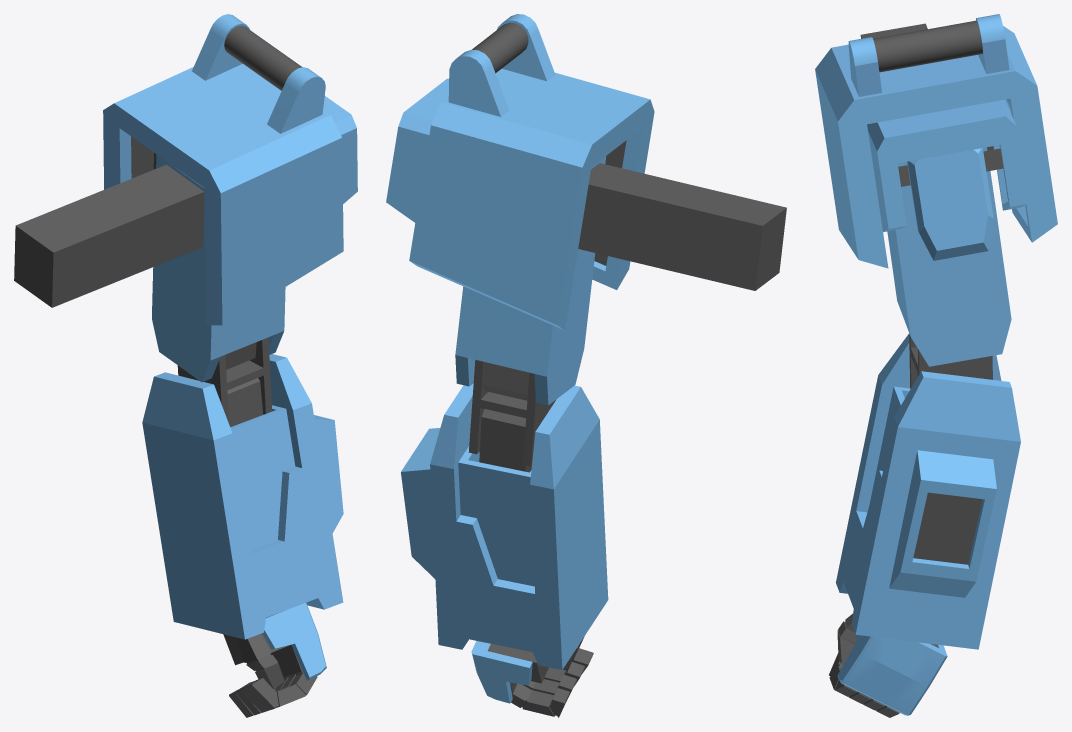
File: LeftArm.fbx
3 renders of one model, left to right at view 1: azimuth 30°, elevation 25°; view 2: azimuth 150°, elevation 25°; view 3: azimuth 270°, elevation 25°, orthographic. The views are drawn at different scales.
Parts seen in each view (by area): view 1: LeftArm2; view 2: LeftArm2; view 3: LeftArm2.
Part boxes in pixels (bbox=[...]): LeftArm2: bbox=[14, 14, 357, 717]; LeftArm2: bbox=[386, 14, 786, 717]; LeftArm2: bbox=[815, 14, 1057, 717].
Bounding box in the file's own units: 5.91 × 11.39 × 3.56.
